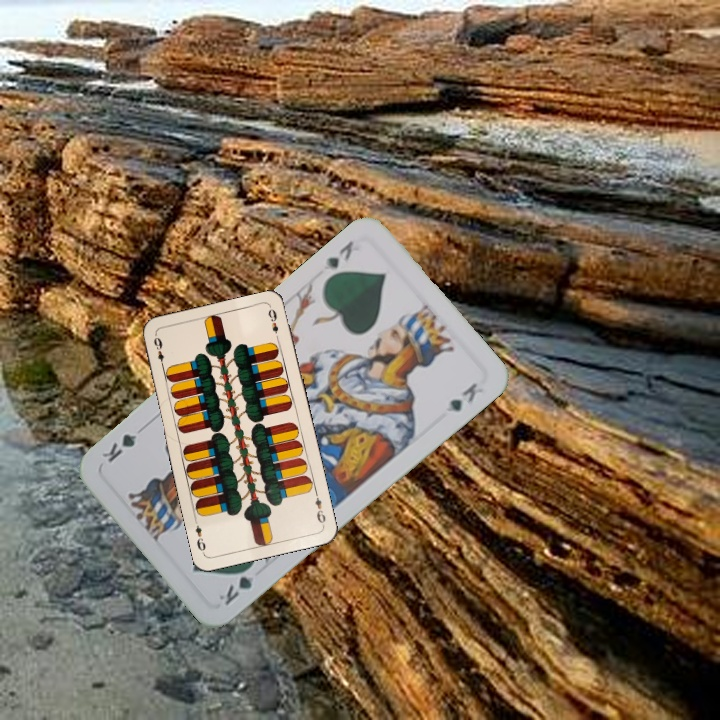E9: (310, 488, 328, 528), (150, 333, 167, 372)
GK: (214, 559, 259, 609), (320, 236, 356, 274)
